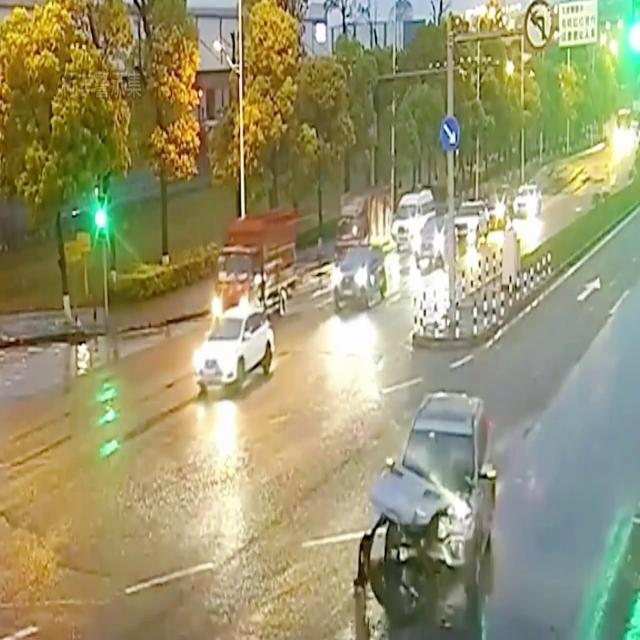accident: (351, 386, 502, 640)
non-accident: (192, 208, 300, 402), (333, 182, 449, 314), (334, 182, 436, 266), (333, 185, 392, 313), (392, 187, 452, 273), (454, 198, 514, 250), (489, 185, 543, 235)
